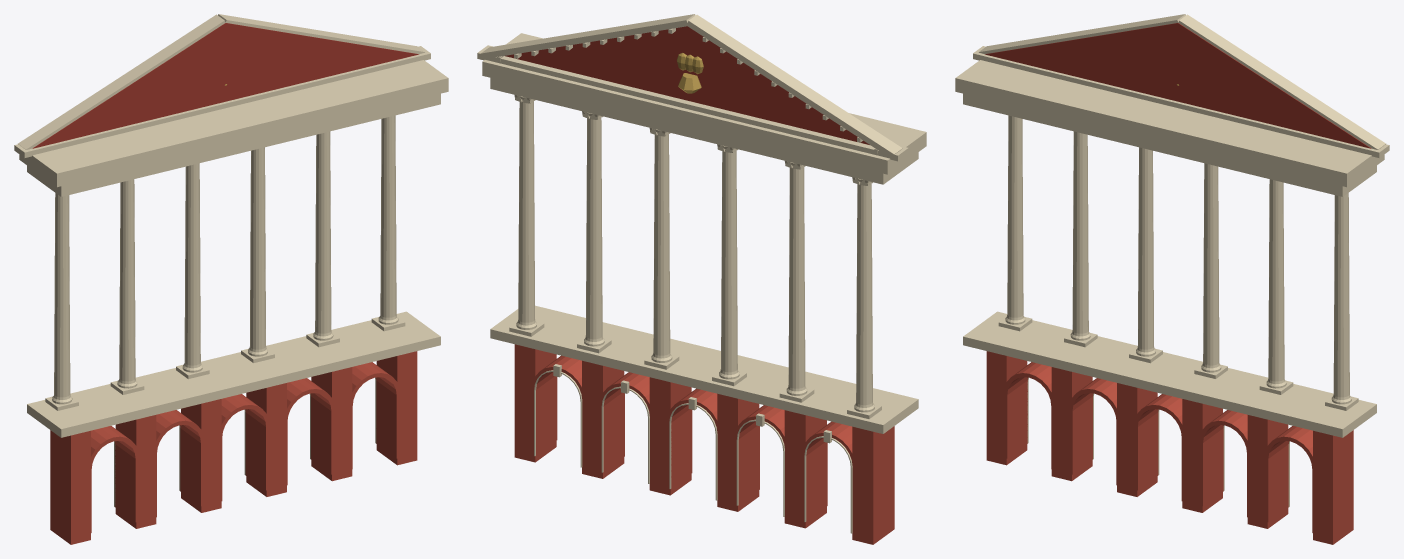
The model's file is KOL_T1_WRITERS__05_Central_Portico.fbx.
3 renders of one model, left to right at view 1: azimuth 30°, elevation 25°; view 2: azimuth 150°, elevation 25°; view 3: azimuth 330°, elevation 25°, orthographic. The views are drawn at different scales.
Parts seen in each view (by area): view 1: KOL_T1_WRITERS__05_Central_Portico__KOL_T1_HeritageCream, KOL_T1_WRITERS__05_Central_Portico__KOL_T1_HeritageRedLight, KOL_T1_WRITERS__05_Central_Portico__KOL_T1_HeritageRed; view 2: KOL_T1_WRITERS__05_Central_Portico__KOL_T1_HeritageCream, KOL_T1_WRITERS__05_Central_Portico__KOL_T1_HeritageRedLight, KOL_T1_WRITERS__05_Central_Portico__KOL_T1_HeritageRed, KOL_T1_WRITERS__05_Central_Portico__KOL_T1_HeritageGold; view 3: KOL_T1_WRITERS__05_Central_Portico__KOL_T1_HeritageCream, KOL_T1_WRITERS__05_Central_Portico__KOL_T1_HeritageRedLight, KOL_T1_WRITERS__05_Central_Portico__KOL_T1_HeritageRed.
Part boxes in pixels (box(x1,y1,x2,y2)): KOL_T1_WRITERS__05_Central_Portico__KOL_T1_HeritageCream: box(14, 14, 448, 506); KOL_T1_WRITERS__05_Central_Portico__KOL_T1_HeritageRedLight: box(50, 351, 417, 544); KOL_T1_WRITERS__05_Central_Portico__KOL_T1_HeritageRed: box(32, 23, 418, 148); KOL_T1_WRITERS__05_Central_Portico__KOL_T1_HeritageCream: box(477, 14, 926, 533); KOL_T1_WRITERS__05_Central_Portico__KOL_T1_HeritageRedLight: box(514, 344, 894, 544); KOL_T1_WRITERS__05_Central_Portico__KOL_T1_HeritageRed: box(505, 26, 869, 144); KOL_T1_WRITERS__05_Central_Portico__KOL_T1_HeritageGold: box(677, 53, 703, 93); KOL_T1_WRITERS__05_Central_Portico__KOL_T1_HeritageCream: box(955, 14, 1389, 506); KOL_T1_WRITERS__05_Central_Portico__KOL_T1_HeritageRedLight: box(986, 351, 1353, 544); KOL_T1_WRITERS__05_Central_Portico__KOL_T1_HeritageRed: box(985, 23, 1371, 148).
Size of the model in its own units: 68.5 by 75.52 by 11.3.
